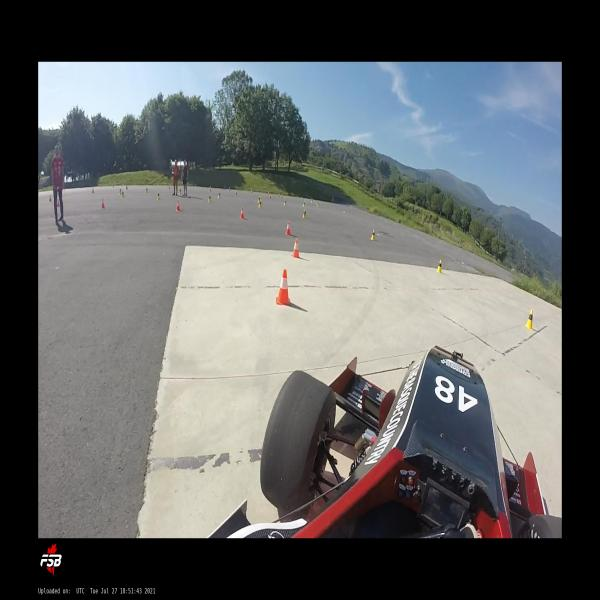orange_cone: (276, 269, 290, 305), (292, 238, 299, 258), (176, 200, 181, 212), (286, 222, 290, 235), (240, 207, 244, 219), (101, 198, 105, 208), (56, 199, 60, 206), (270, 194, 272, 198), (210, 186, 211, 192), (236, 190, 237, 195)
yellow_cone: (525, 309, 533, 330), (436, 259, 442, 273), (370, 229, 375, 240), (258, 199, 262, 208), (121, 191, 124, 199), (303, 210, 306, 218), (208, 195, 211, 202), (157, 193, 160, 200), (257, 196, 260, 202), (302, 202, 305, 207), (284, 199, 286, 206), (218, 192, 220, 198), (179, 188, 181, 194), (318, 202, 319, 208), (120, 189, 121, 195), (146, 188, 147, 194)
